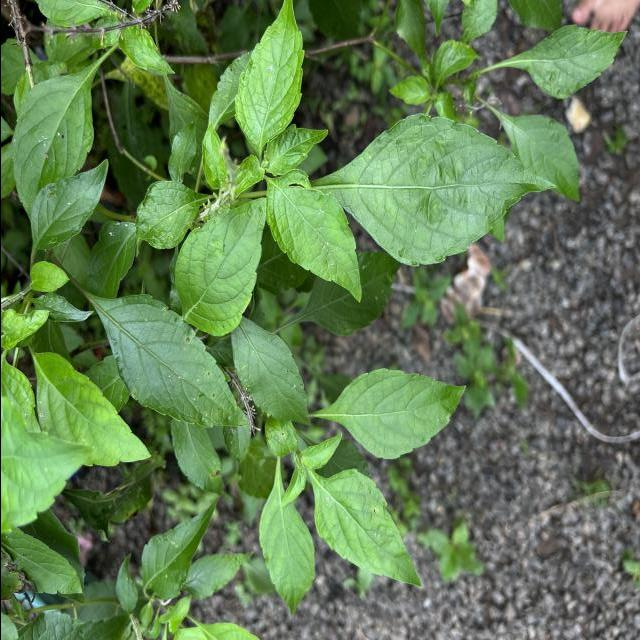Ocimum gratissimum: (316, 111, 558, 269), (78, 291, 253, 434), (23, 345, 153, 469), (7, 61, 100, 230), (310, 366, 468, 462), (302, 465, 424, 589), (168, 194, 270, 338), (262, 168, 366, 306), (232, 0, 306, 155), (134, 494, 222, 602), (230, 312, 310, 429), (24, 154, 110, 261), (256, 466, 316, 618)
